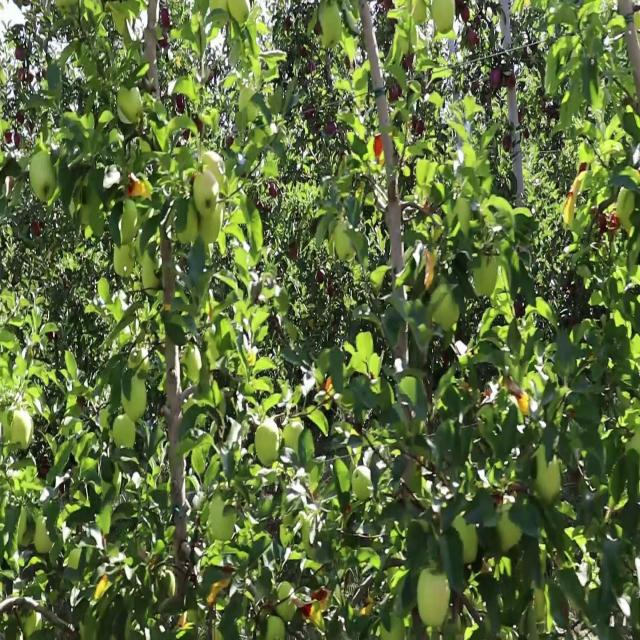apple: (196, 170, 223, 213), (256, 426, 281, 468), (120, 85, 143, 124), (12, 412, 35, 450), (508, 383, 531, 418), (176, 213, 199, 247), (284, 419, 304, 453), (128, 177, 151, 201), (424, 248, 436, 290), (320, 376, 334, 409), (96, 575, 109, 601), (160, 7, 172, 30), (504, 71, 516, 92), (468, 28, 479, 50), (376, 135, 386, 158), (492, 71, 503, 91), (176, 92, 186, 114), (32, 220, 43, 238), (392, 85, 403, 103), (516, 305, 526, 320), (16, 49, 25, 64), (464, 7, 472, 23), (328, 120, 336, 135), (8, 177, 16, 192), (268, 184, 276, 199), (292, 248, 299, 261), (316, 21, 322, 36), (328, 284, 334, 299), (4, 135, 12, 146), (16, 135, 22, 149), (16, 113, 24, 123), (504, 142, 512, 151), (20, 71, 25, 84), (320, 270, 324, 284)
